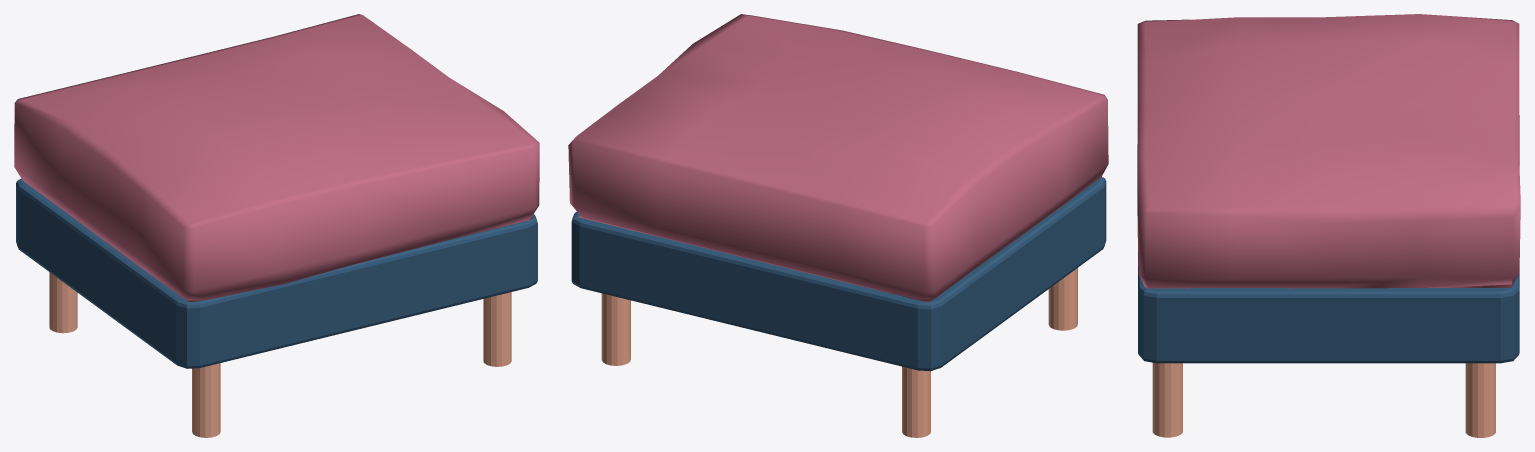
File: fotStool.fbx
The picture shows the model from 3 angles, left to right: view 1: azimuth 30°, elevation 25°; view 2: azimuth 150°, elevation 25°; view 3: azimuth 270°, elevation 25°; orthographic projection. The views are drawn at different scales.
Visible parts, largest first — view 1: FotStool; view 2: FotStool; view 3: FotStool.
Boxes of the visible parts, x1,y1,x2,y2 form: FotStool: (14,14,539,437); FotStool: (568,14,1108,437); FotStool: (1137,14,1520,437).
Size of the model in its own units: 75.74 by 48.7 by 63.63.
Materials: 1 (1 with a texture image).
